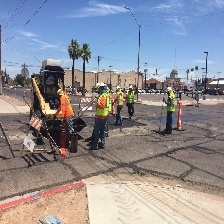person: (53, 87, 77, 151), (91, 83, 111, 152), (163, 83, 177, 136), (125, 82, 138, 122), (115, 85, 125, 129)
vest: (54, 95, 74, 122), (96, 91, 112, 122), (165, 94, 176, 116), (114, 90, 125, 111), (127, 90, 135, 109)
